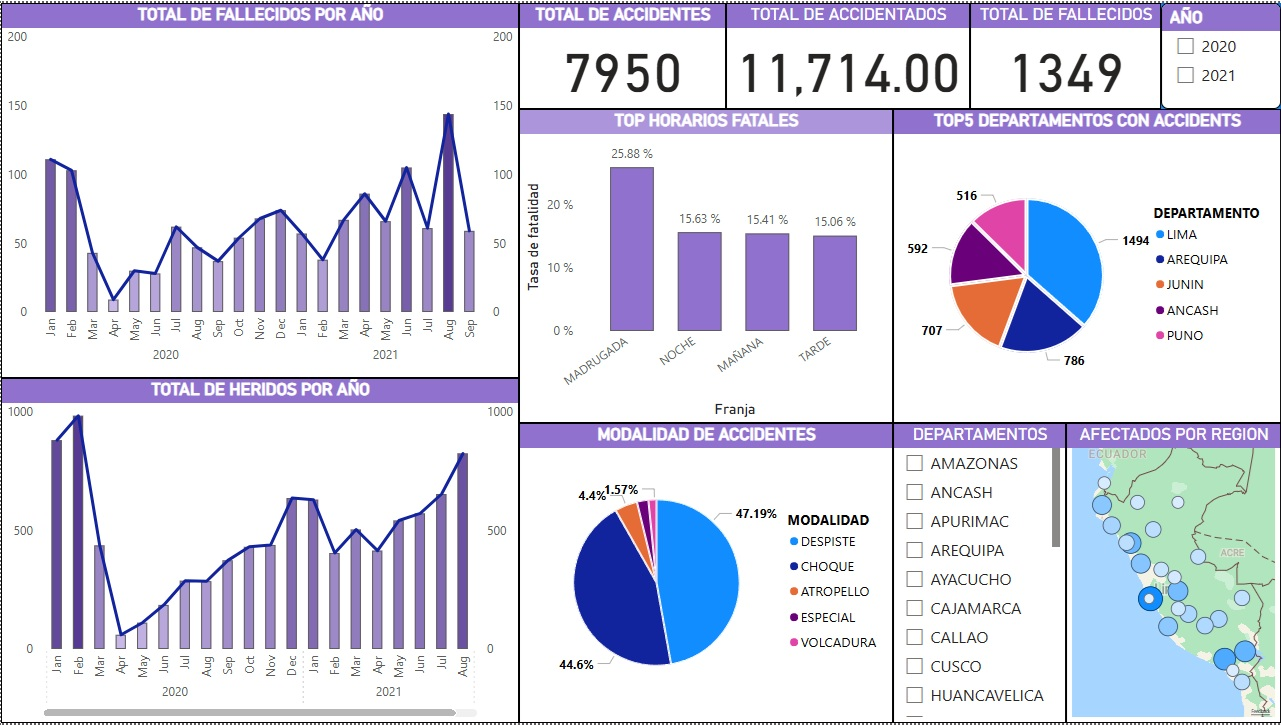

Layout of this report page (visuals, bound fields, positions):
{"tool":"powerbi","page":{"name":"Página 3","canvas":[1280,720],"ordinal":2},"visuals":[{"type":"lineStackedColumnComboChart","title":"Numero de accidentes  ","fields":{"Category":["accidentes.DEPARTAMENTO"],"Y":["accidentes.Total Accidents"]},"box":[24.9,36.1,551.6,342.4],"z":0},{"type":"donutChart","title":"Top  5 modalidades accidentes","fields":{"Category":["accidentes.MODALIDAD"],"Y":["accidentes.Modalities Count"]},"box":[590.2,132,383.5,227.9],"z":1000},{"type":"donutChart","title":"Top 5 Accidentes Hora","fields":{"Category":["accidentes.HORA_TIME"],"Y":["accidentes.Total Accidents"]},"box":[576.5,387.2,344.9,332.5],"z":2000},{"type":"map","fields":{"Category":["accidentes.Departamento y Pais"]},"box":[24.9,378.5,551.6,312.5],"z":3000}]}

Visuals, with their boxes in screenshot pixels (x1, y1, x2, y2), scaled from the page's 1280x720 canvas onto the 1281x725 screenshot:
"Numero de accidentes  " lineStackedColumnComboChart: <box>25,36,577,381</box>
"Top  5 modalidades accidentes" donutChart: <box>591,133,974,362</box>
"Top 5 Accidentes Hora" donutChart: <box>577,390,922,724</box>
map - accidentes.Departamento y Pais: <box>25,381,577,696</box>
